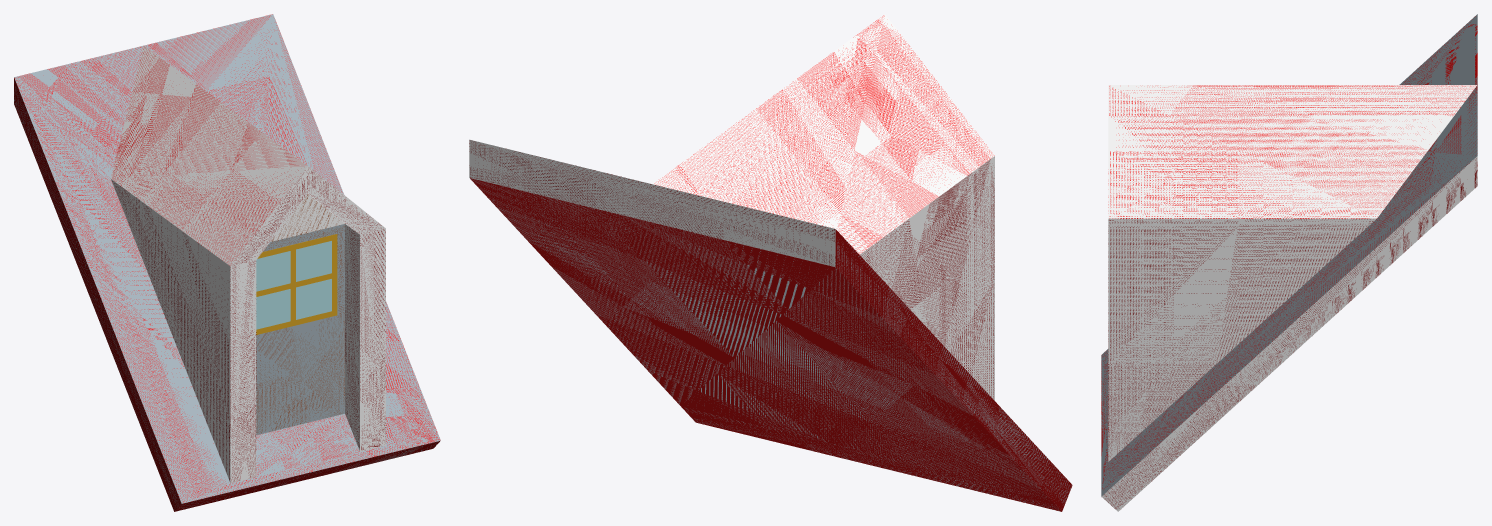
File: roof_dormer4.fbx
3 views of the same model, side by side, from view 1: azimuth 30°, elevation 25°; view 2: azimuth 150°, elevation 25°; view 3: azimuth 270°, elevation 25° (orthographic). The views are drawn at different scales.
Parts seen in each view (by area): view 1: Mesh6_sloped_roof_6_1 Model, Mesh1_Group1 sloped_roof_6_1 Model, Mesh3_Group3 sloped_roof_6_1 Model, Mesh4_Group4 sloped_roof_6_1 Model, Mesh2_Group2 sloped_roof_6_1 Model, Mesh5_Group5 sloped_roof_6_1 Model; view 2: Mesh6_sloped_roof_6_1 Model; view 3: Mesh6_sloped_roof_6_1 Model.
Part boxes in pixels (left/top/right/bottom): Mesh6_sloped_roof_6_1 Model: left=14, top=14, right=440, bottom=511; Mesh1_Group1 sloped_roof_6_1 Model: left=256, top=234, right=337, bottom=334; Mesh3_Group3 sloped_roof_6_1 Model: left=296, top=279, right=331, bottom=319; Mesh4_Group4 sloped_roof_6_1 Model: left=296, top=241, right=331, bottom=281; Mesh2_Group2 sloped_roof_6_1 Model: left=256, top=289, right=290, bottom=329; Mesh5_Group5 sloped_roof_6_1 Model: left=256, top=251, right=290, bottom=291; Mesh6_sloped_roof_6_1 Model: left=469, top=14, right=1072, bottom=511; Mesh6_sloped_roof_6_1 Model: left=1101, top=14, right=1477, bottom=511.
Bounding box in the file's own units: 1 × 1.17 × 1.12.
